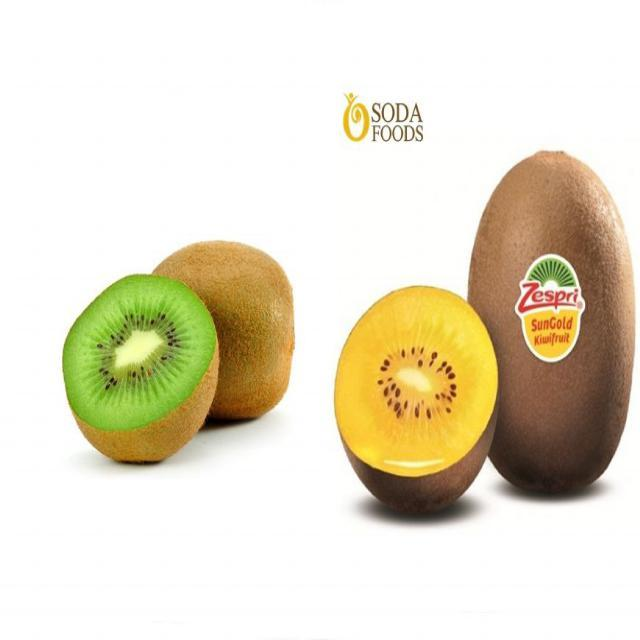kiwi: (463, 148, 637, 503), (159, 235, 301, 420)
